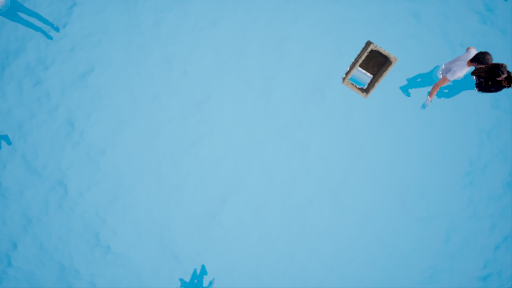person: (400, 42, 508, 120)
